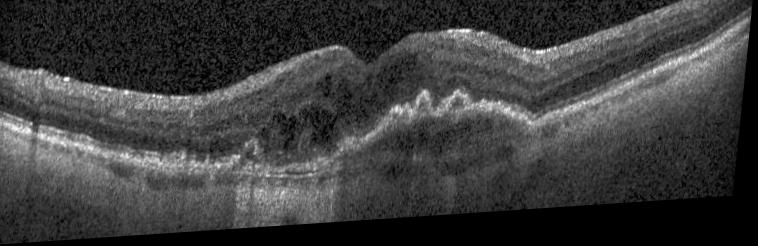intraretinal_cyst: (337, 84, 373, 129), (303, 108, 339, 148), (381, 61, 418, 89), (279, 117, 299, 139), (318, 78, 333, 101), (288, 142, 294, 154)
subretinal_hyperreflective_material: (289, 95, 538, 178), (234, 143, 270, 170)
